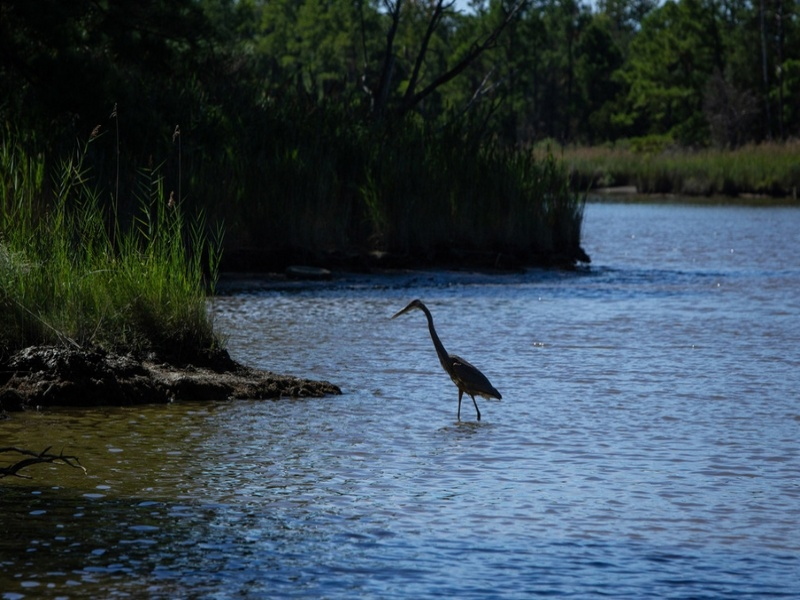heron: (390, 295, 504, 423)
